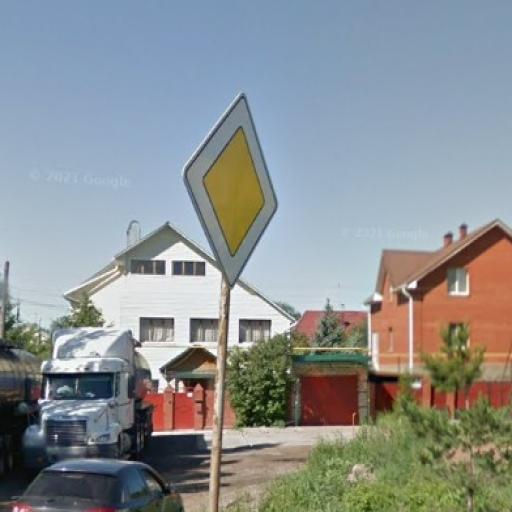traffic_sign: (184, 91, 280, 289)
